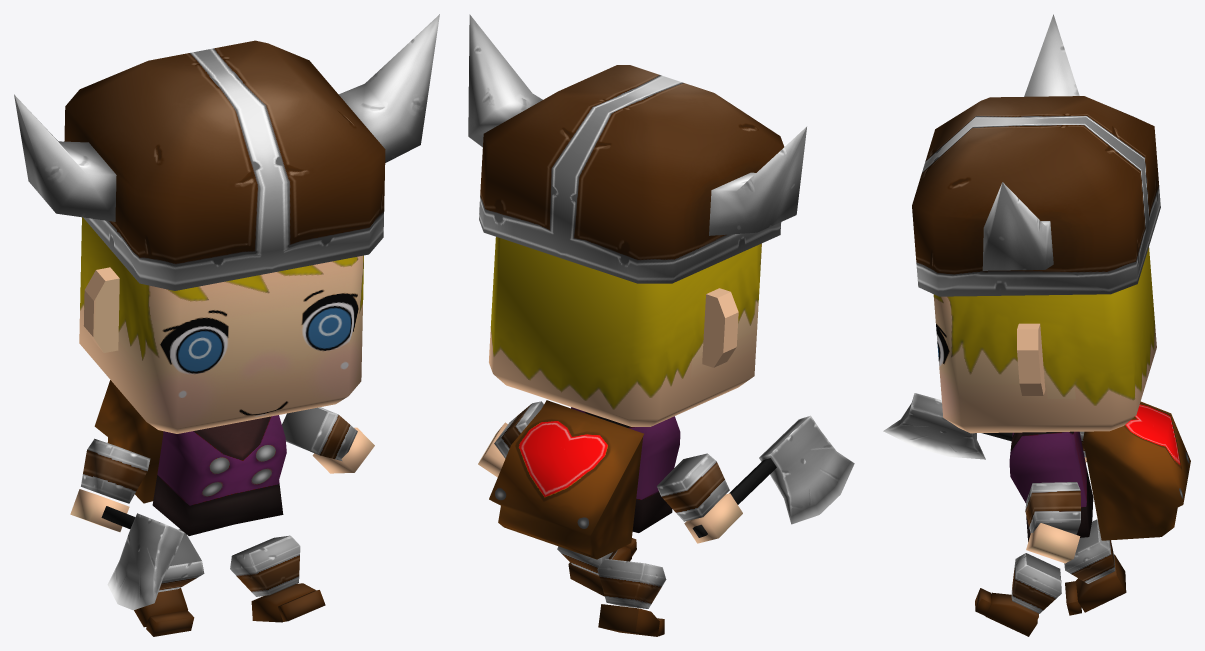
The model's file is mini_knight_fem_000008.obj.
The picture shows the model from 3 angles, left to right: view 1: azimuth 30°, elevation 25°; view 2: azimuth 150°, elevation 25°; view 3: azimuth 270°, elevation 25°; orthographic projection. The views are drawn at different scales.
Visible parts, largest first — view 1: cap_Object01, Mesh_objheadusOBJexport, axe_Object02, back_Object03; view 2: cap_Object01, Mesh_objheadusOBJexport, back_Object03, axe_Object02; view 3: cap_Object01, Mesh_objheadusOBJexport, back_Object03, axe_Object02.
Part boxes in pixels (x1,y1,x2,y2): cap_Object01: [14, 14, 439, 290]; Mesh_objheadusOBJexport: [70, 217, 374, 636]; axe_Object02: [101, 506, 184, 610]; back_Object03: [94, 380, 163, 503]; cap_Object01: [468, 14, 806, 283]; Mesh_objheadusOBJexport: [478, 237, 761, 636]; back_Object03: [489, 400, 643, 559]; axe_Object02: [692, 415, 854, 537]; cap_Object01: [912, 14, 1160, 296]; Mesh_objheadusOBJexport: [933, 247, 1156, 636]; back_Object03: [1083, 401, 1190, 540]; axe_Object02: [883, 393, 1086, 461].
Size of the model in its own units: 1.83 by 2.61 by 1.39.
